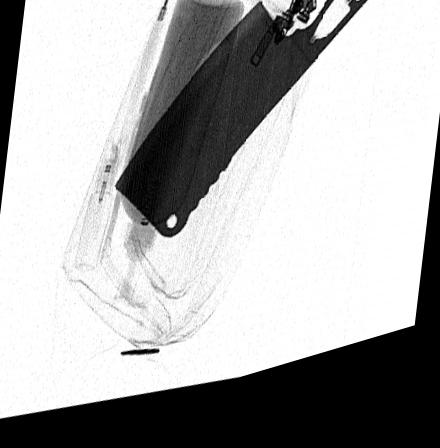Knife: (112, 0, 387, 248)
